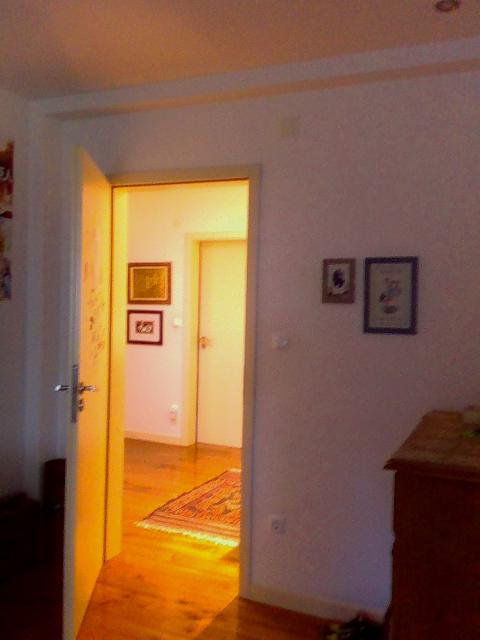open_door: (96, 162, 261, 601)
